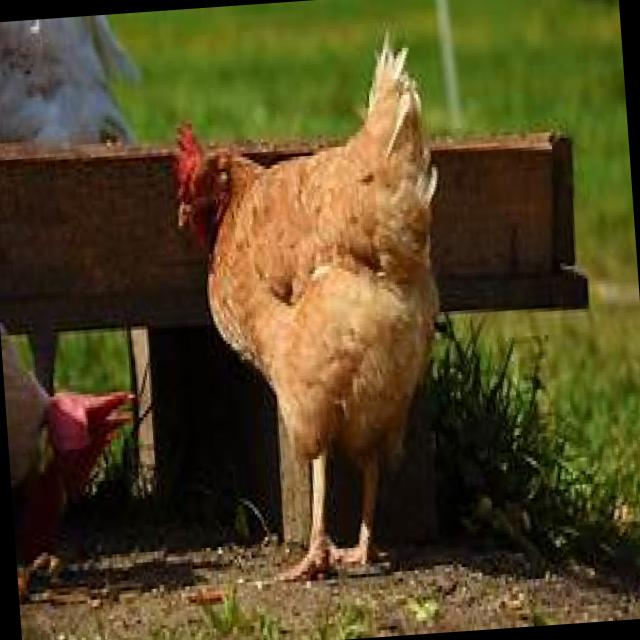animal: (169, 51, 460, 582)
